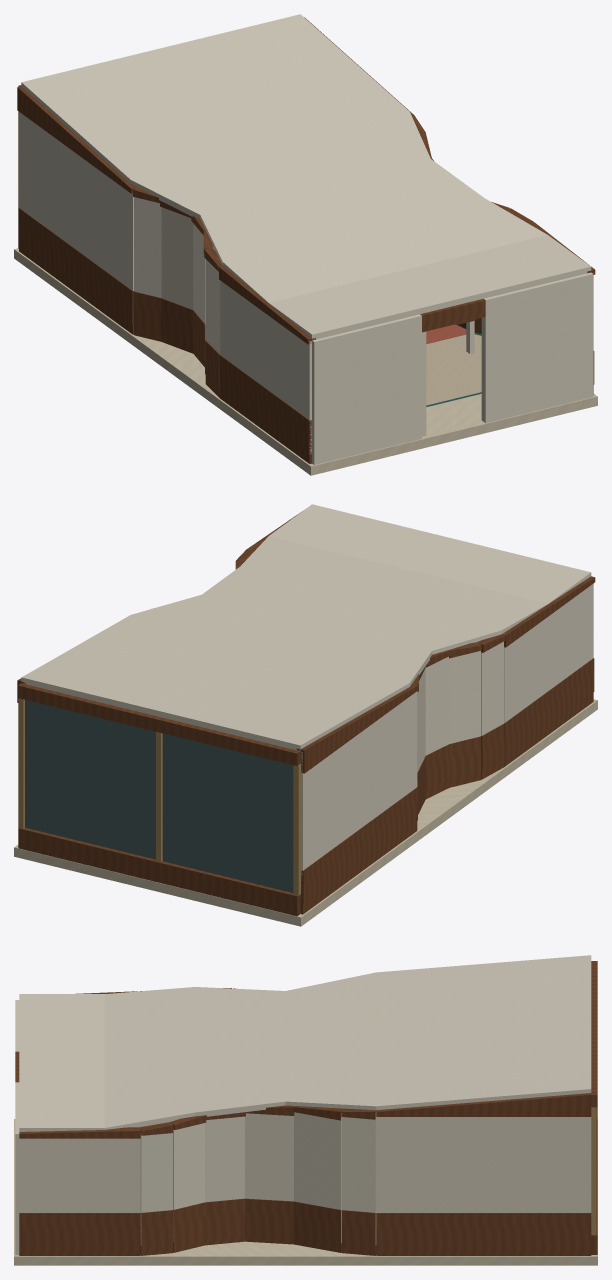
The model's file is shell.glb.
The picture shows the model from 3 angles, top to bottom: view 1: azimuth 30°, elevation 25°; view 2: azimuth 150°, elevation 25°; view 3: azimuth 270°, elevation 25°; orthographic projection.
Visible parts, largest first — view 1: NG_Runtime_ivory_enamel, NG_Runtime_warm_walnut, NG_Runtime_warm_stone, NG_Runtime_oatmeal_weave; view 2: NG_Runtime_ivory_enamel, NG_Runtime_NG_SourceDirectionalPrivacy_NOT_RUNTIME_ACCEPTED, NG_Runtime_warm_walnut, NG_Runtime_warm_stone, NG_Runtime_champagne_metal; view 3: NG_Runtime_ivory_enamel, NG_Runtime_warm_walnut, NG_Runtime_warm_stone, NG_Runtime_champagne_metal.
Boxes of the visible parts, x1,y1,x2,y2 form: NG_Runtime_ivory_enamel: (19, 14, 593, 464); NG_Runtime_warm_walnut: (17, 17, 595, 463); NG_Runtime_warm_stone: (14, 248, 597, 475); NG_Runtime_oatmeal_weave: (213, 248, 481, 405); NG_Runtime_ivory_enamel: (21, 504, 593, 885); NG_Runtime_NG_SourceDirectionalPrivacy_NOT_RUNTIME_ACCEPTED: (25, 700, 293, 892); NG_Runtime_warm_walnut: (17, 511, 595, 916); NG_Runtime_warm_stone: (14, 699, 597, 926); NG_Runtime_champagne_metal: (18, 698, 300, 895); NG_Runtime_ivory_enamel: (15, 955, 591, 1254); NG_Runtime_warm_walnut: (15, 961, 597, 1255); NG_Runtime_warm_stone: (14, 1119, 597, 1265); NG_Runtime_champagne_metal: (591, 1107, 596, 1235).
Bounding box in the file's own units: 7.2 × 4.26 × 12.9.
9 materials, 7 textured.
